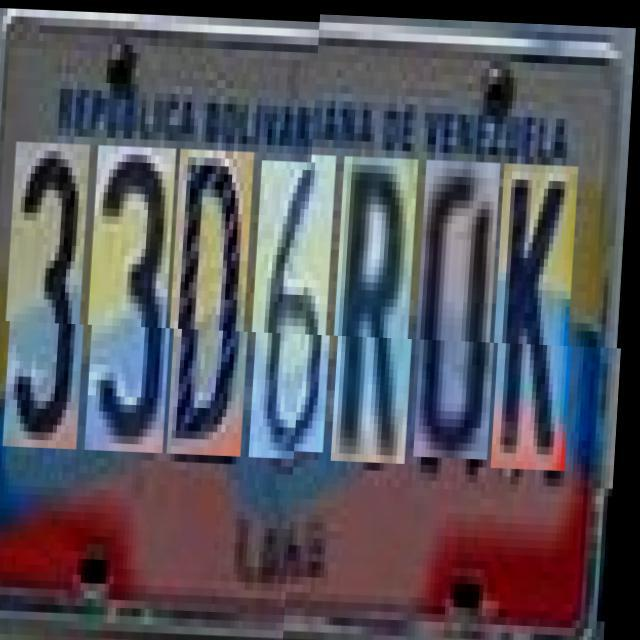0: (418, 164, 506, 462)
3: (90, 144, 182, 451), (8, 142, 96, 448)
6: (254, 158, 342, 457)
D: (172, 147, 260, 454)
K: (496, 166, 584, 474)
R: (336, 161, 424, 468)
